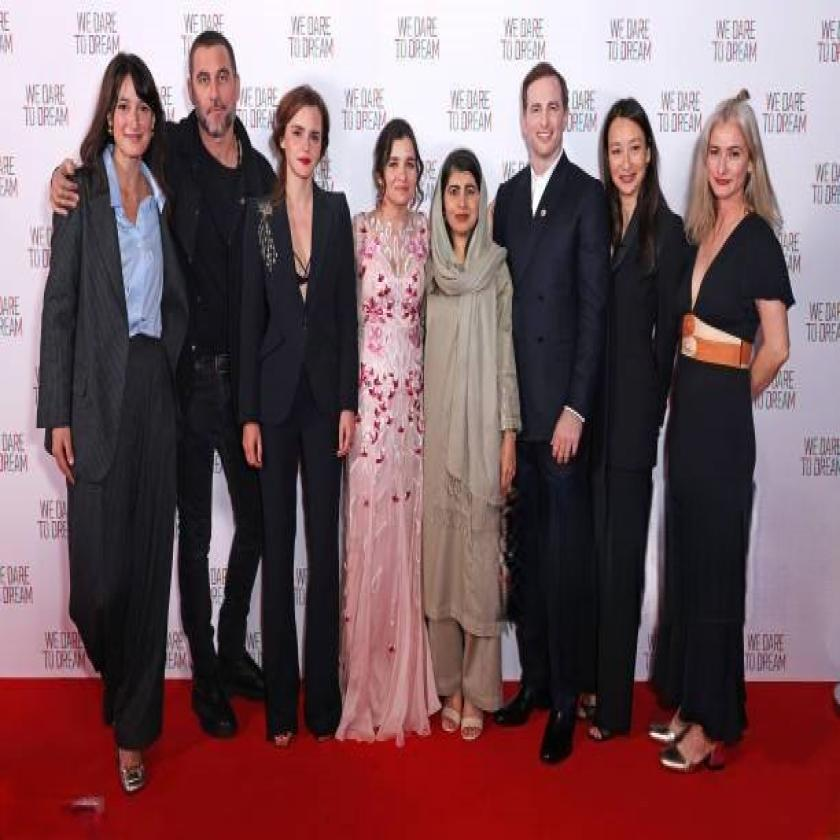Sin_casco: (705, 84, 772, 214), (88, 50, 160, 163), (178, 24, 242, 134), (590, 91, 659, 191), (273, 67, 334, 179), (516, 60, 578, 168), (362, 108, 426, 208)
